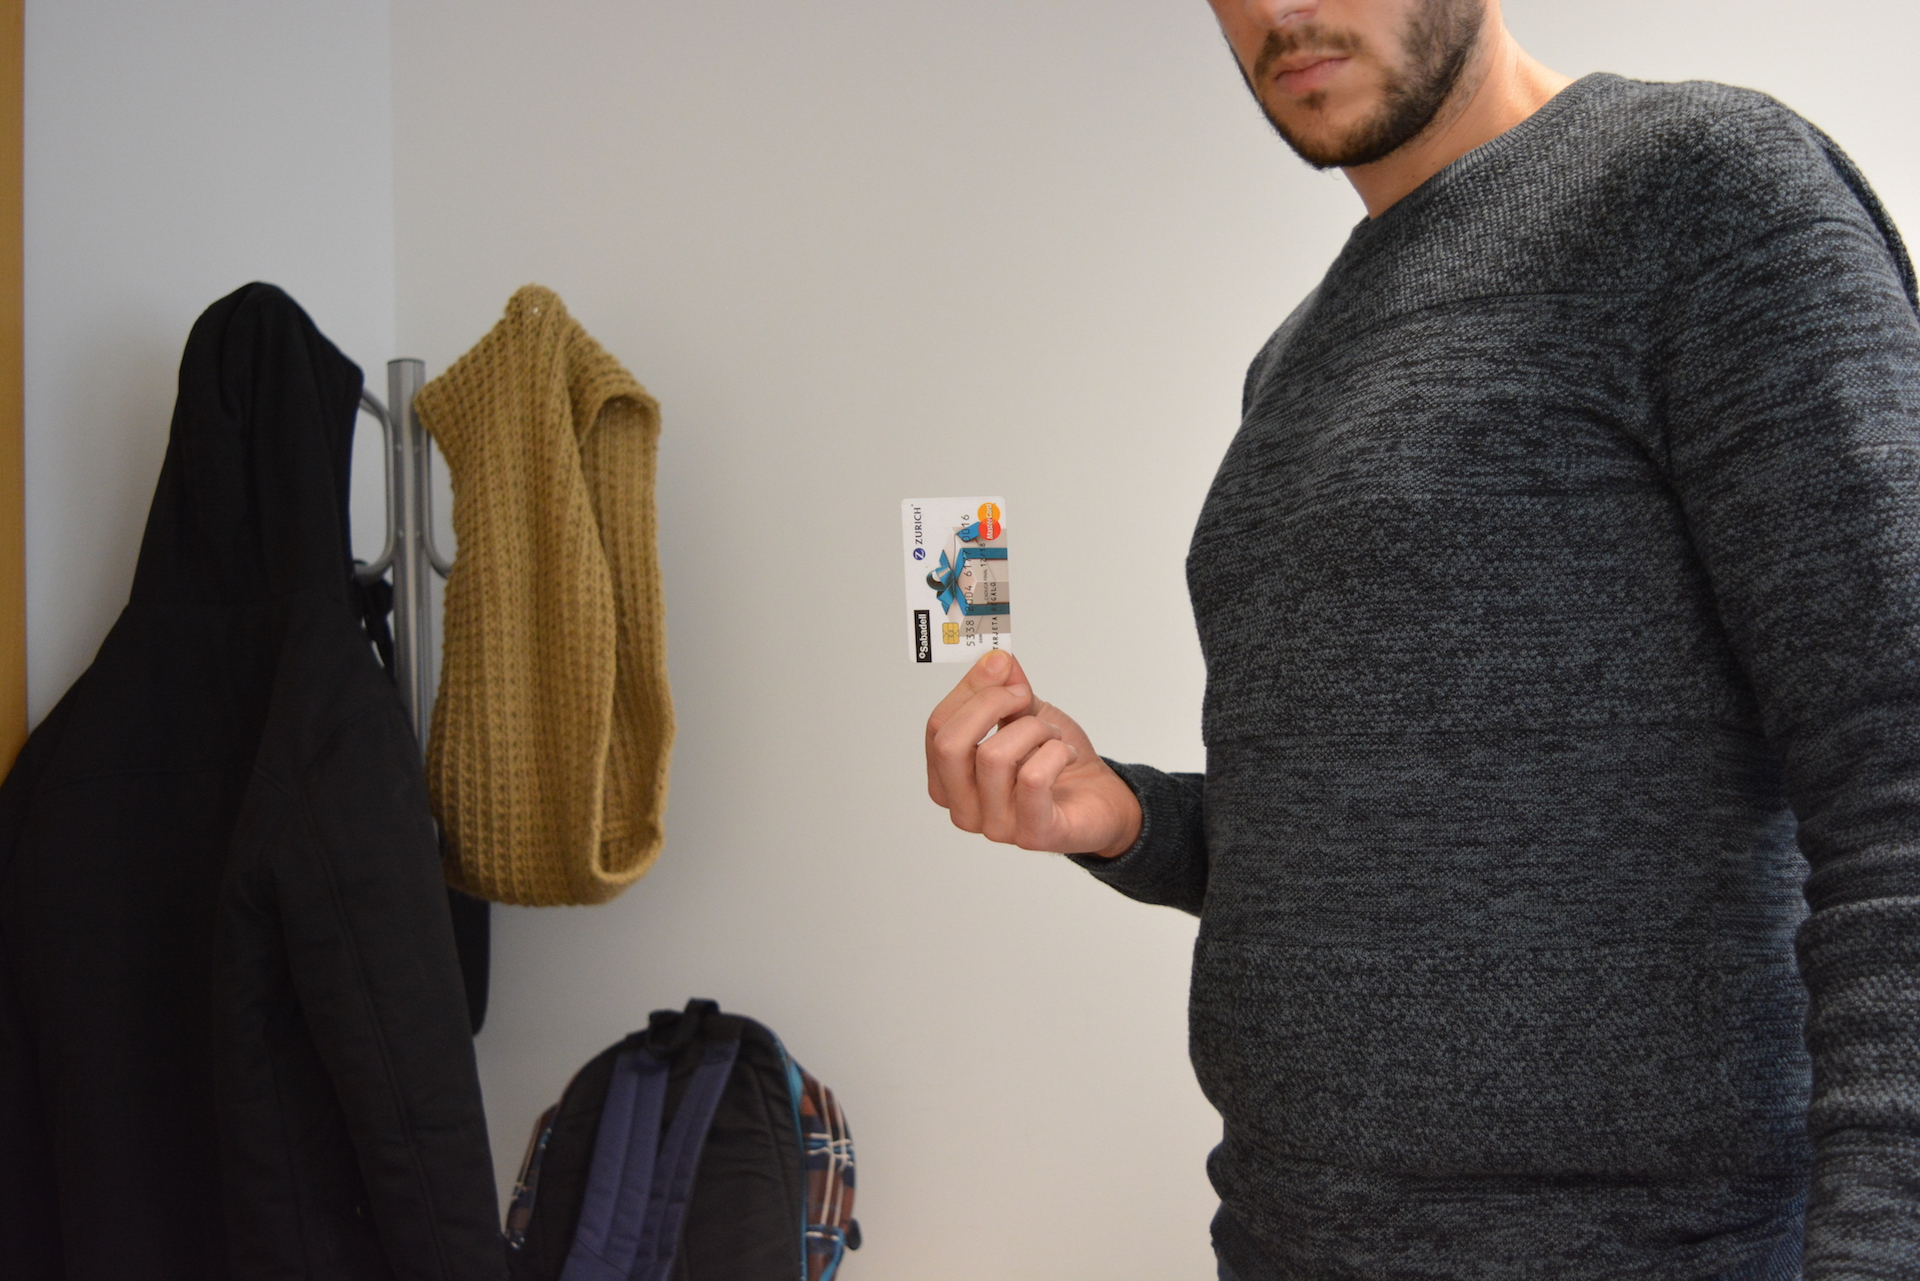tarjeta: (901, 495, 1016, 663)
